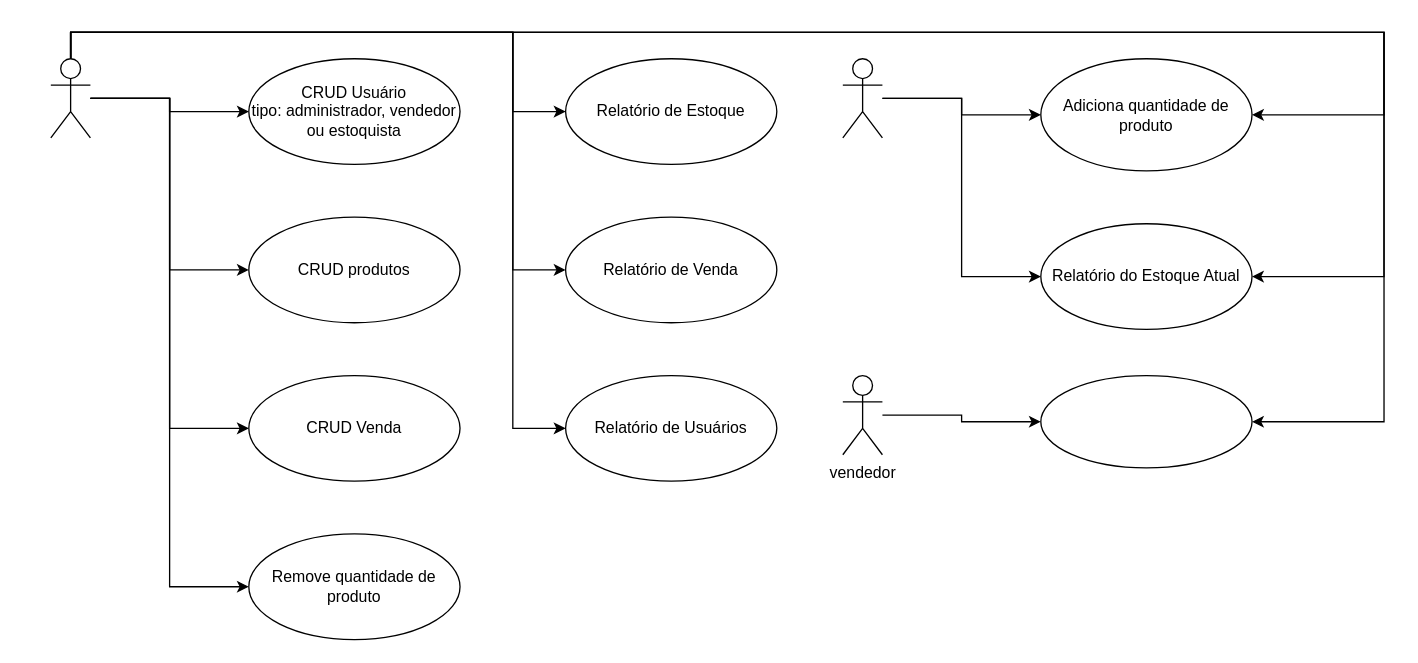
Some shapes in this 1418 by 663 pixel diagram are drawn without their labels. Here are the shapes that lost their labels. From the top down, the centre of each, then its label:
the point at 70,97: administrador
the point at 862,97: estoquista
the point at 1146,421: Registra Venda
